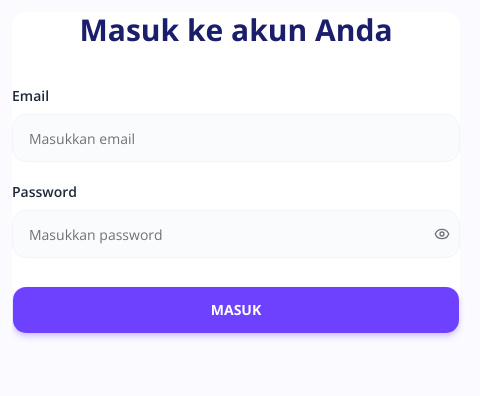
LoginForm › shows a server error message when credentials are invalid
The width and height of the screenshot is (480, 396).
Step 1. Type "user@example.com" into the field labelled "Email" → coordinates (236, 138), box [12,114,460,162]
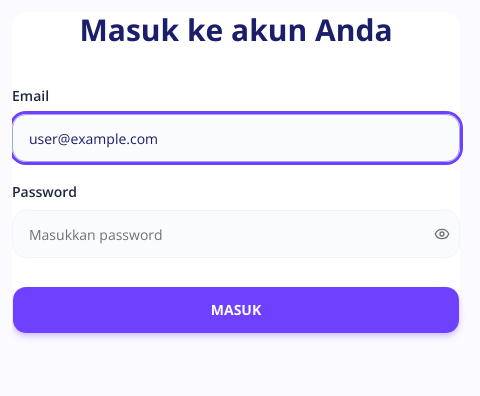
Step 2. Type "wrong-password" into the password field labelled "Password" → coordinates (236, 234), box [12,210,460,258]
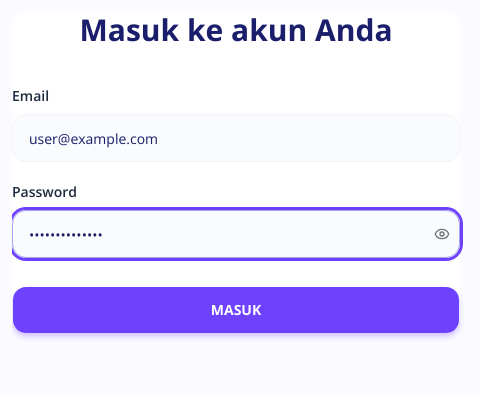
Step 3. Click the button "Masuk" → coordinates (236, 310), box [12,286,460,334]
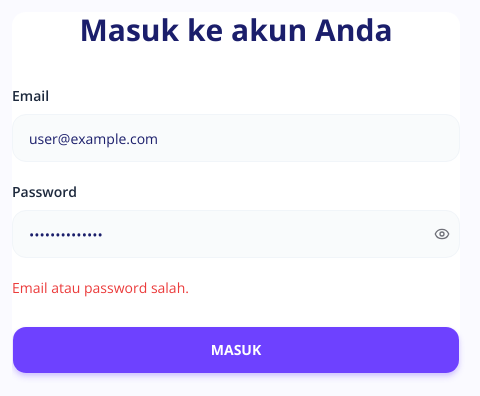
Check: the text "Email atau password salah." is shown, box [12,278,189,297]
